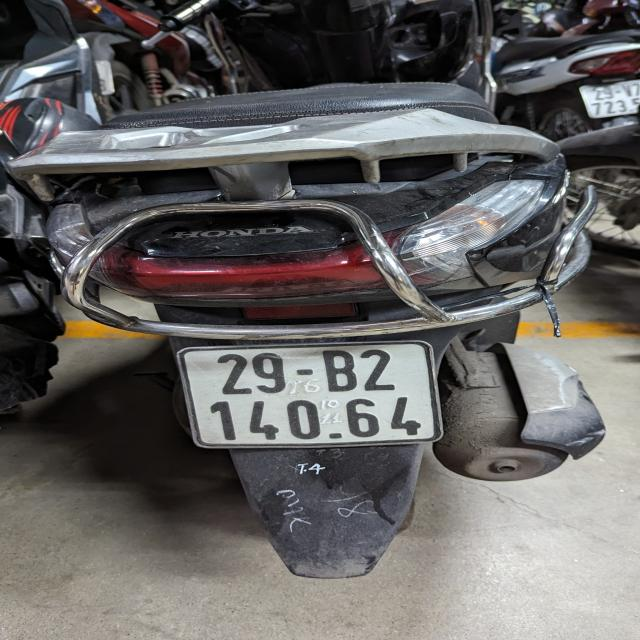License: (174, 340, 443, 449)
